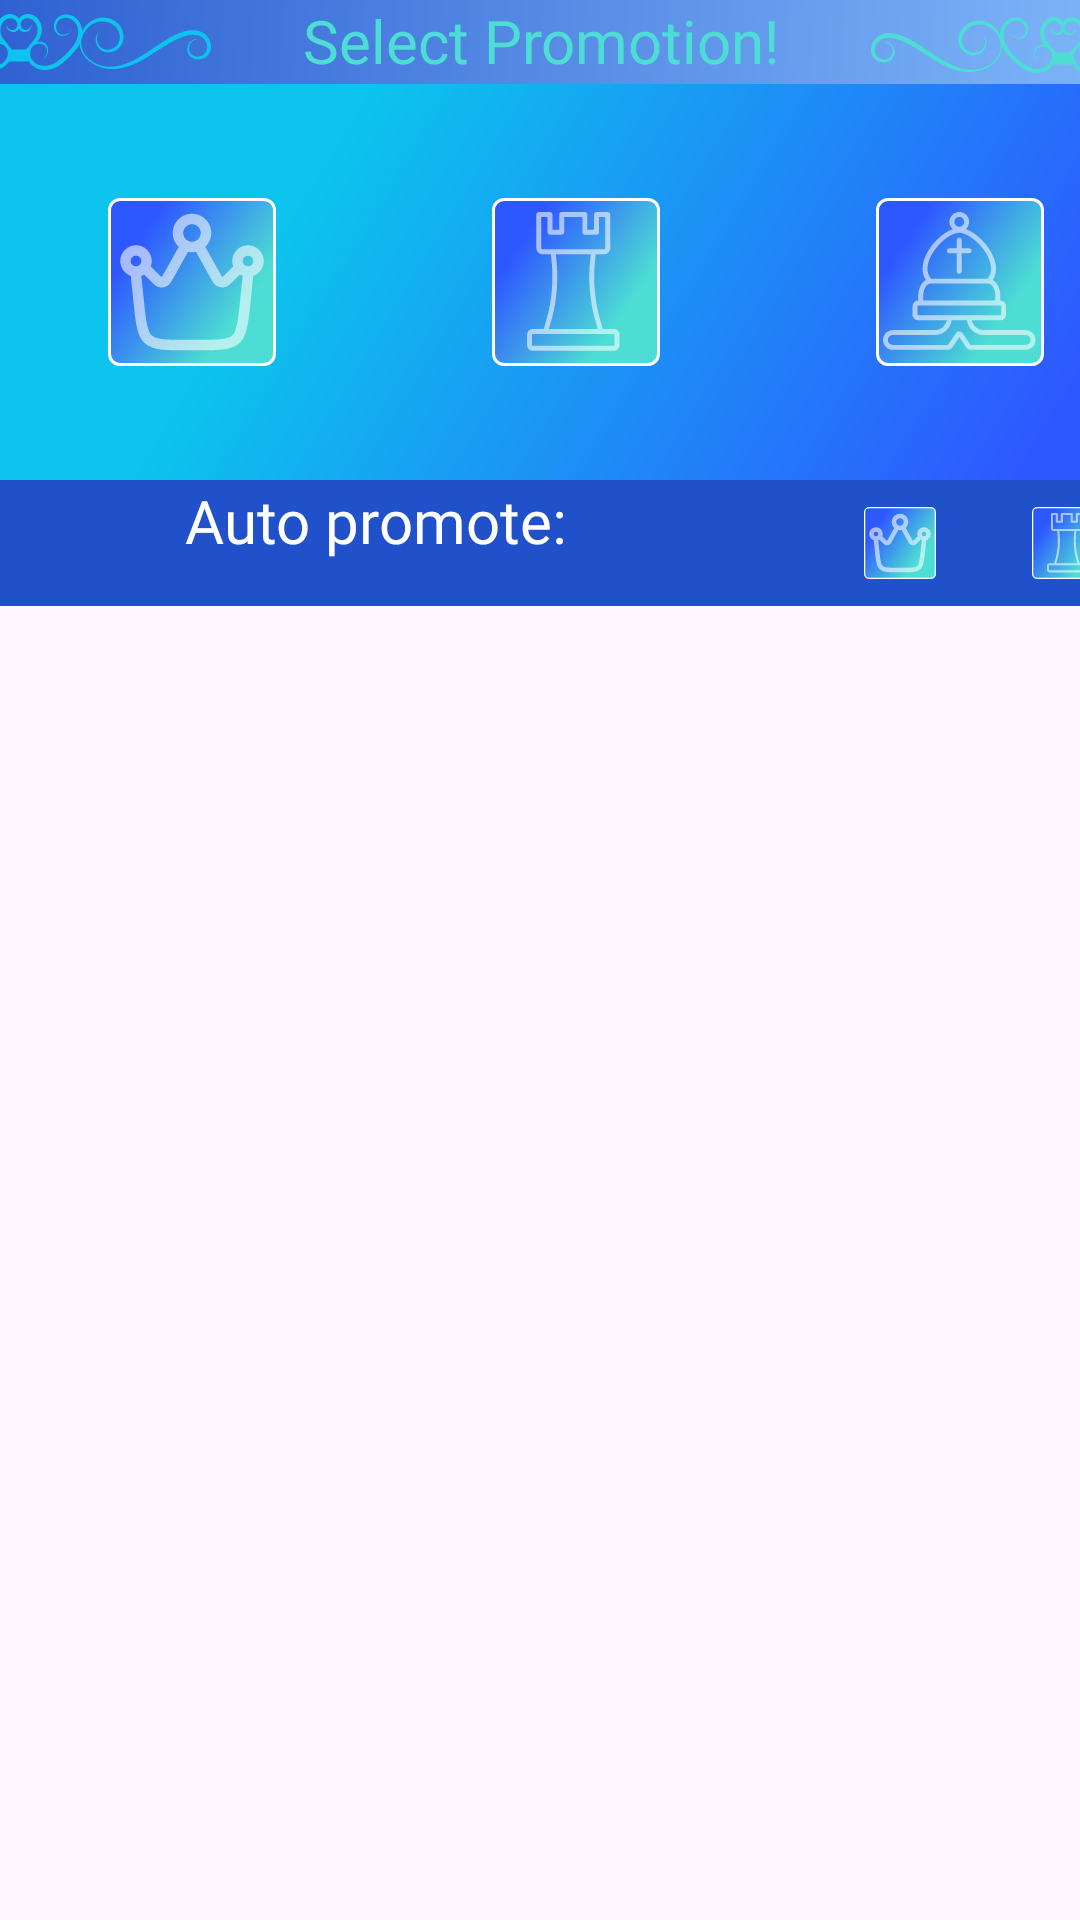

Icons on this 1080px x 1920px Android screen, each with its box as [x1,y1,x2,y2]:
bishop promotion: [876,198,1044,366]
queen promotion: [108,198,276,366], [864,507,936,579]
